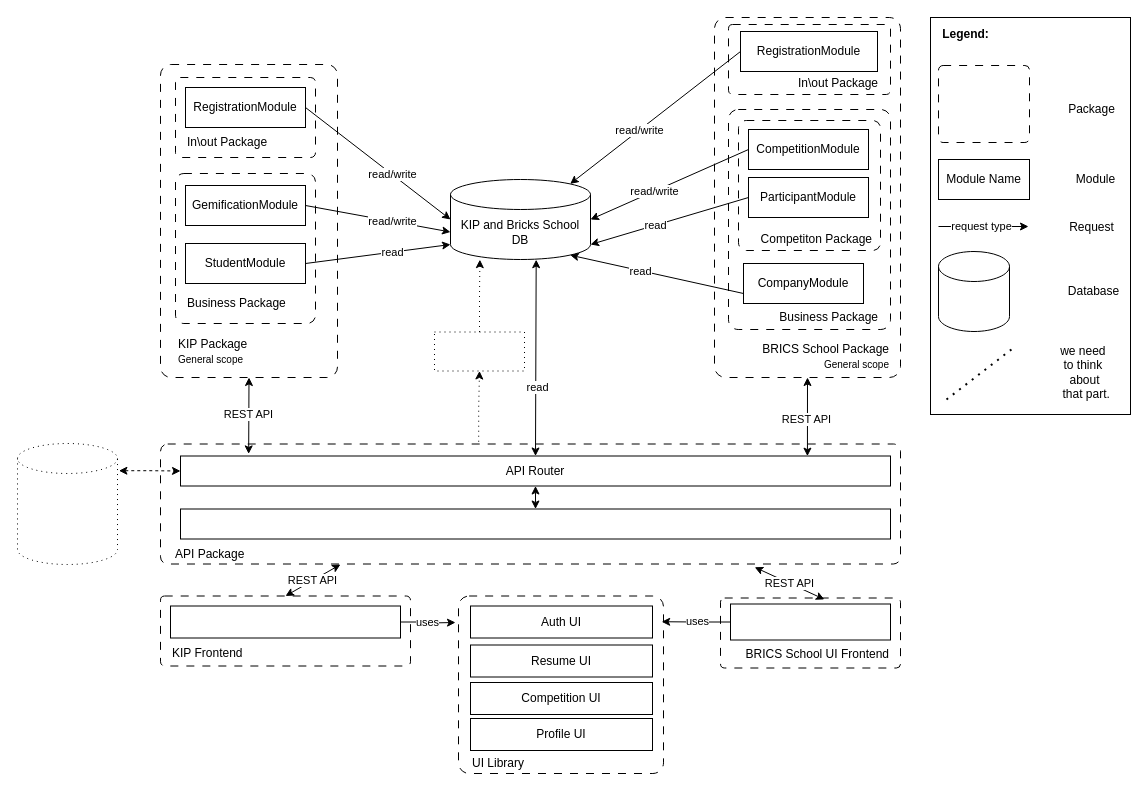
The diagram is 1148 pixels wide and 791 high, and some of its shapes have lost their labels. The box of each missing label's shape, as (x1, y1, x2, y2) in pixels:
API Authentiction: (180, 508, 890, 539)
BRICS School UI: (730, 603, 890, 640)
Cache: (16, 442, 118, 564)
DB: (938, 250, 1010, 332)
KIP UI: (170, 605, 400, 638)
Log Module: (434, 331, 524, 371)
Package Name: (938, 64, 1030, 142)
